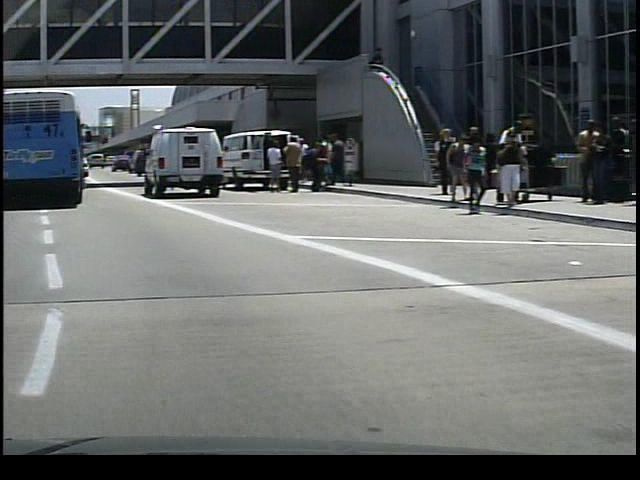person: (492, 120, 524, 210), (492, 128, 524, 212), (277, 133, 306, 196), (322, 132, 344, 186), (261, 134, 280, 193)
